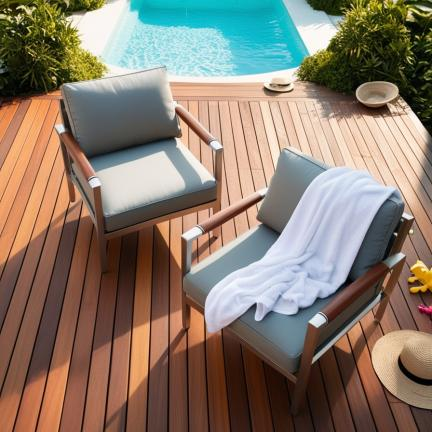empty chair: (56, 67, 223, 272)
occupied chair: (182, 148, 411, 414), (130, 0, 142, 11)
